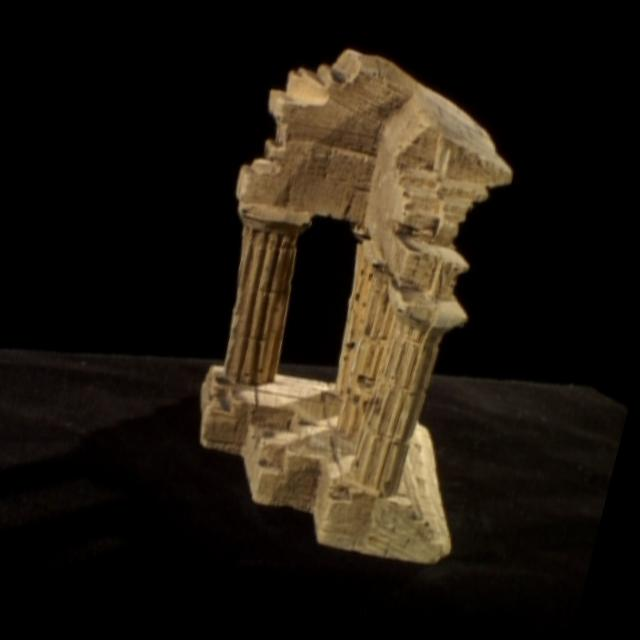Instance-Segmentation: (201, 49, 512, 561)
